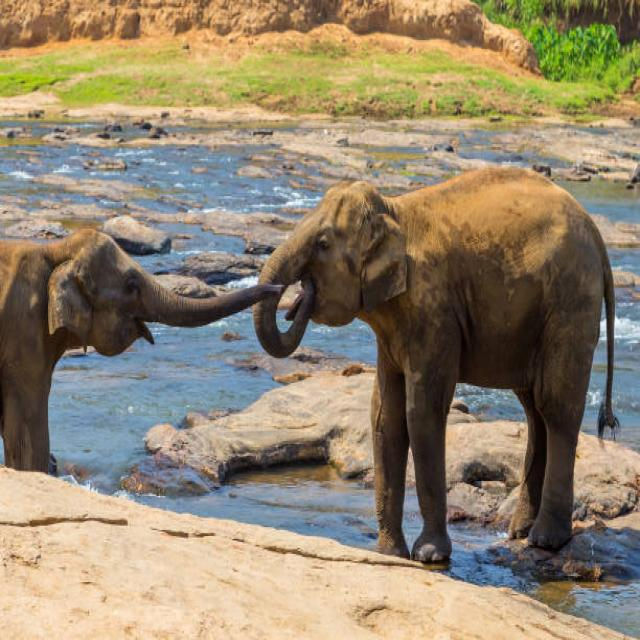Elephant: (258, 158, 608, 571), (0, 220, 209, 503)
